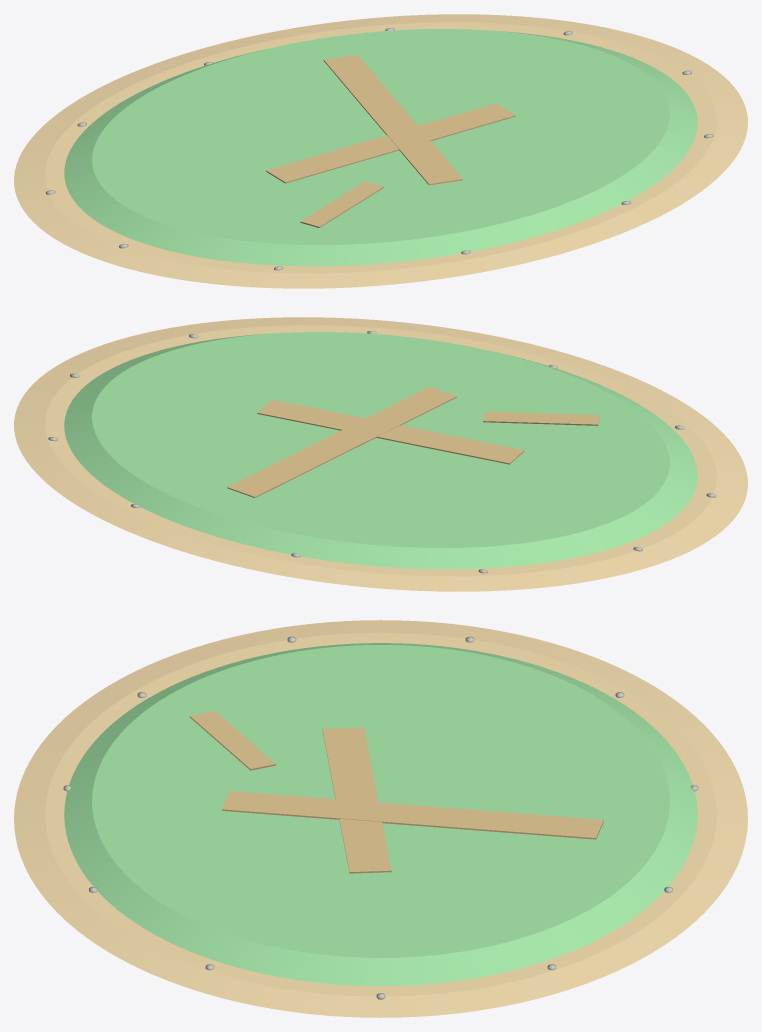
Rendered from dream_bay_terrain.glb.
The picture shows the model from 3 angles, top to bottom: view 1: azimuth 30°, elevation 25°; view 2: azimuth 150°, elevation 25°; view 3: azimuth 270°, elevation 25°; orthographic projection. The views are drawn at different scales.
Visible parts, largest first — view 1: grass_island_ellipse, sand_beach_ellipse, stone_paths; view 2: grass_island_ellipse, sand_beach_ellipse, stone_paths; view 3: grass_island_ellipse, sand_beach_ellipse, stone_paths.
Boxes of the visible parts, x1,y1,x2,y2 form: grass_island_ellipse: (64, 29, 697, 266); sand_beach_ellipse: (14, 14, 747, 288); stone_paths: (266, 54, 515, 227); grass_island_ellipse: (64, 332, 697, 569); sand_beach_ellipse: (14, 317, 747, 591); stone_paths: (227, 386, 599, 497); grass_island_ellipse: (64, 643, 697, 986); sand_beach_ellipse: (14, 620, 747, 1017); stone_paths: (189, 711, 603, 873).
Bounding box in the file's own units: 47 × 1.09 × 36.66.
